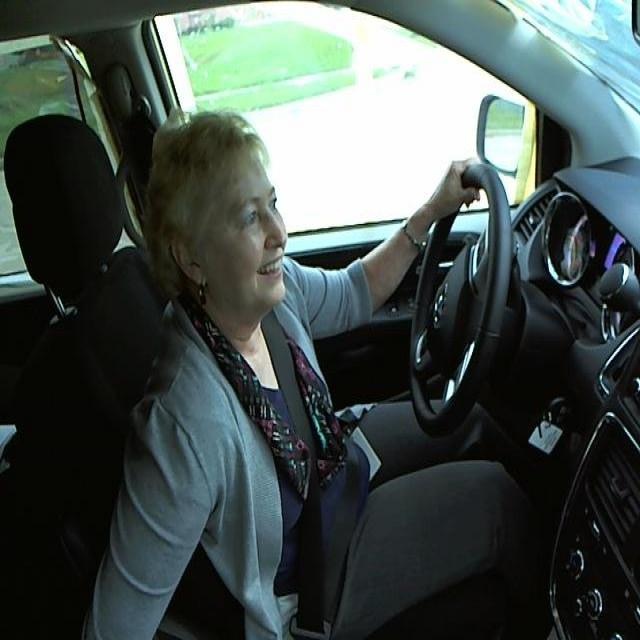seatbelt: (247, 328, 345, 628)
